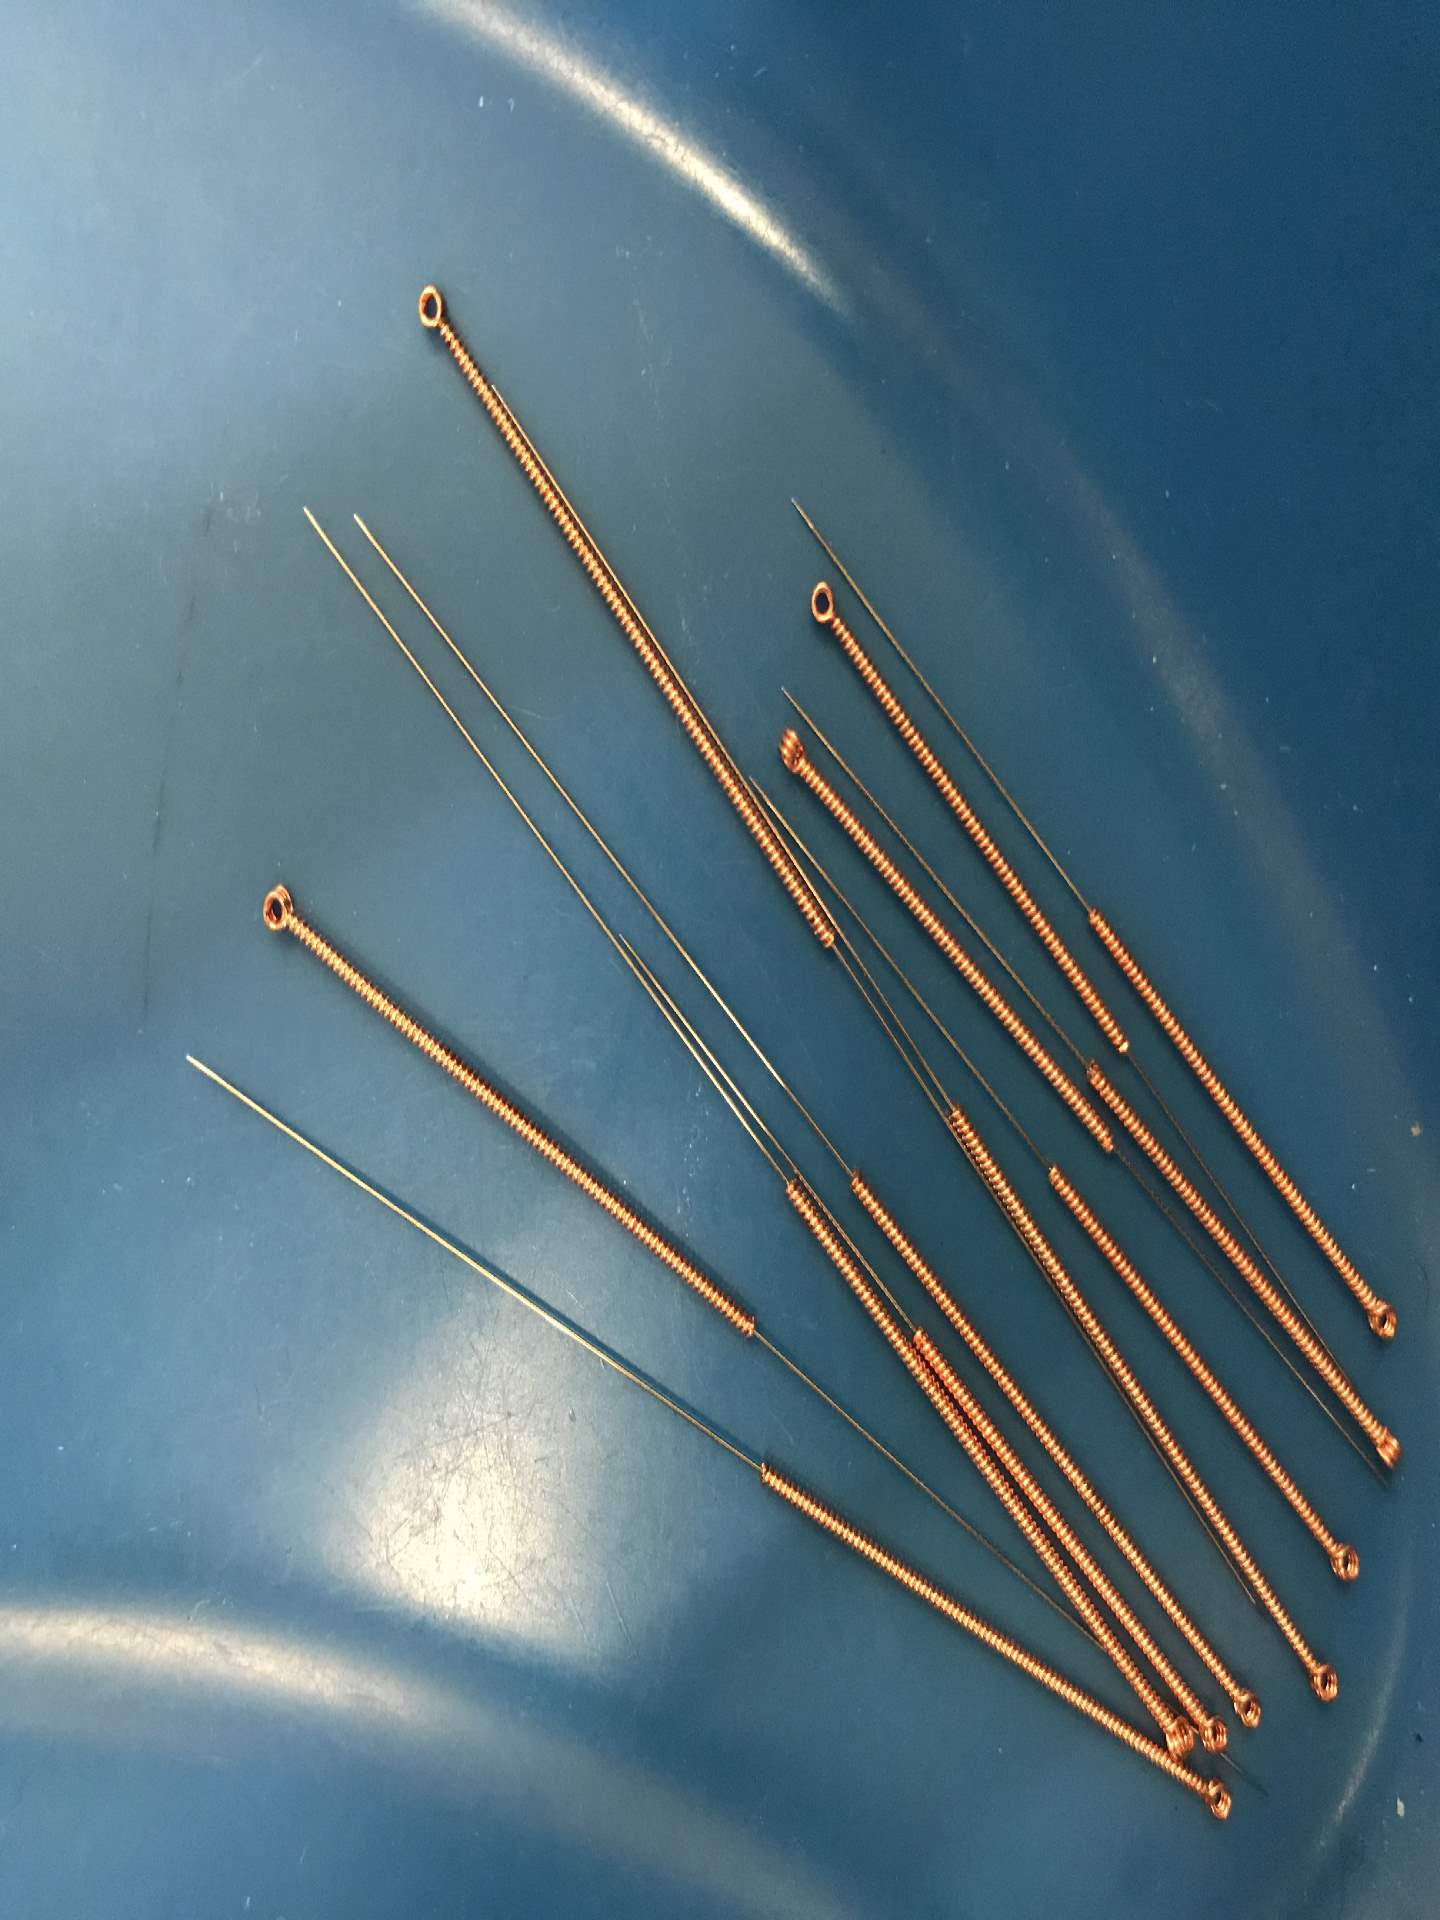needle: (247, 871, 312, 954), (759, 712, 821, 791), (402, 271, 461, 351), (1349, 1276, 1407, 1355), (796, 565, 852, 646), (1355, 1407, 1414, 1483), (1313, 1519, 1369, 1596), (1293, 1643, 1349, 1714), (1222, 1658, 1269, 1740), (1183, 1769, 1243, 1831), (1193, 1690, 1231, 1761), (1160, 1699, 1199, 1767)
